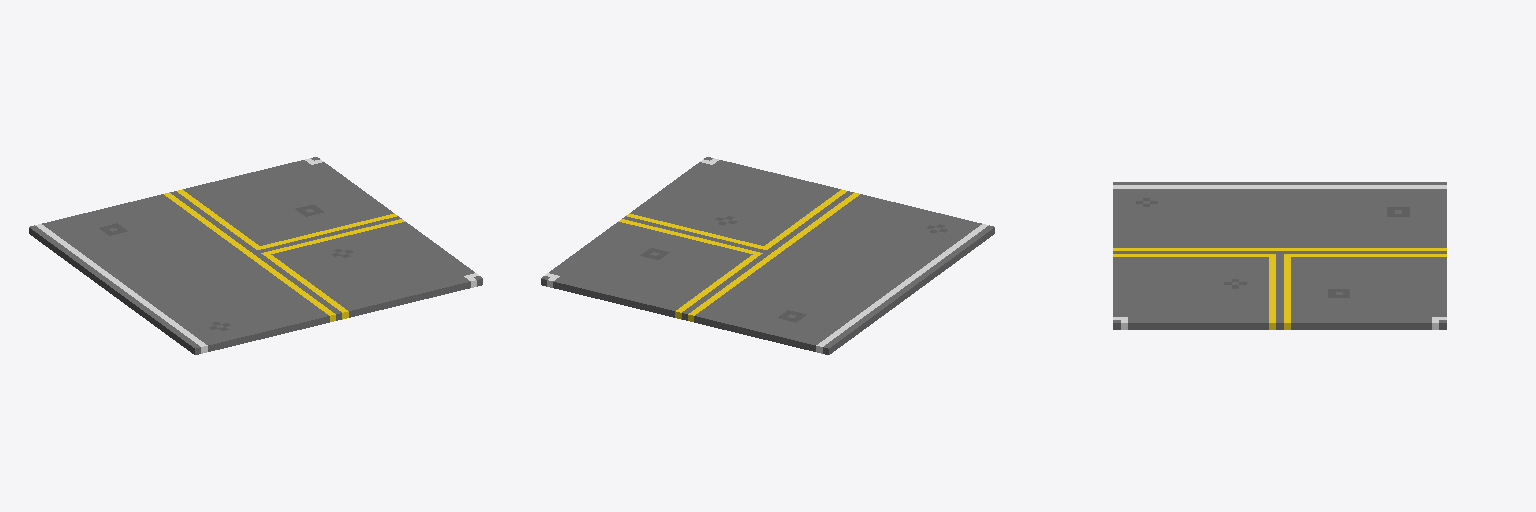
3 views of the same model, side by side, from view 1: azimuth 30°, elevation 25°; view 2: azimuth 150°, elevation 25°; view 3: azimuth 270°, elevation 25° (orthographic).
Visible parts, largest first — view 1: Box_82; view 2: Box_82; view 3: Box_82.
Part boxes in pixels (x1,y1,x2,y2): Box_82: (29,157,482,354); Box_82: (541,157,994,354); Box_82: (1113,182,1446,329).
Bounding box in the file's own units: 45 × 1 × 45.
1 materials, 1 textured.